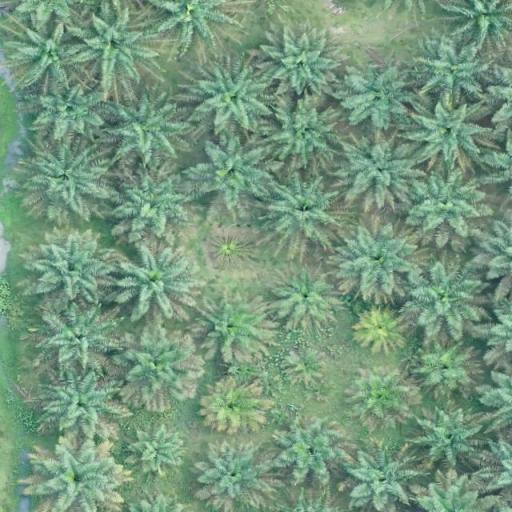Ganoderma: (362, 312, 399, 348)
